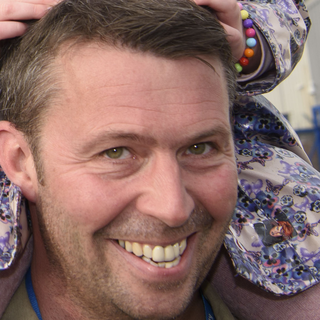eye: (93, 141, 143, 165), (177, 136, 222, 161)
